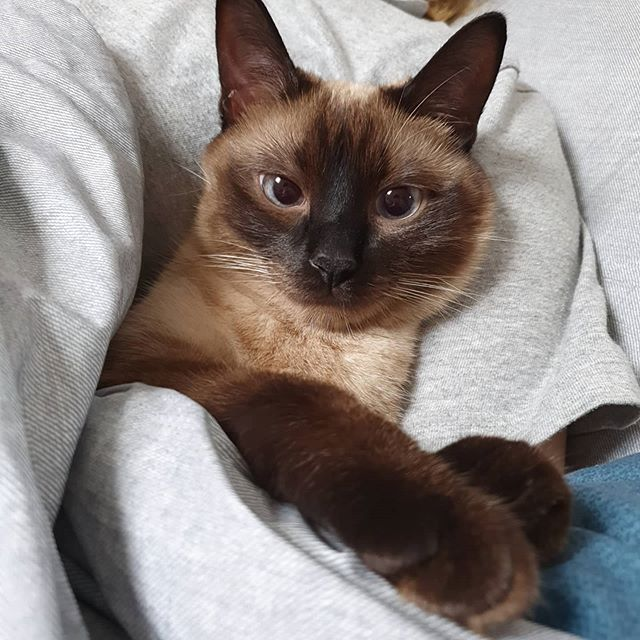cat: (204, 1, 511, 345)
